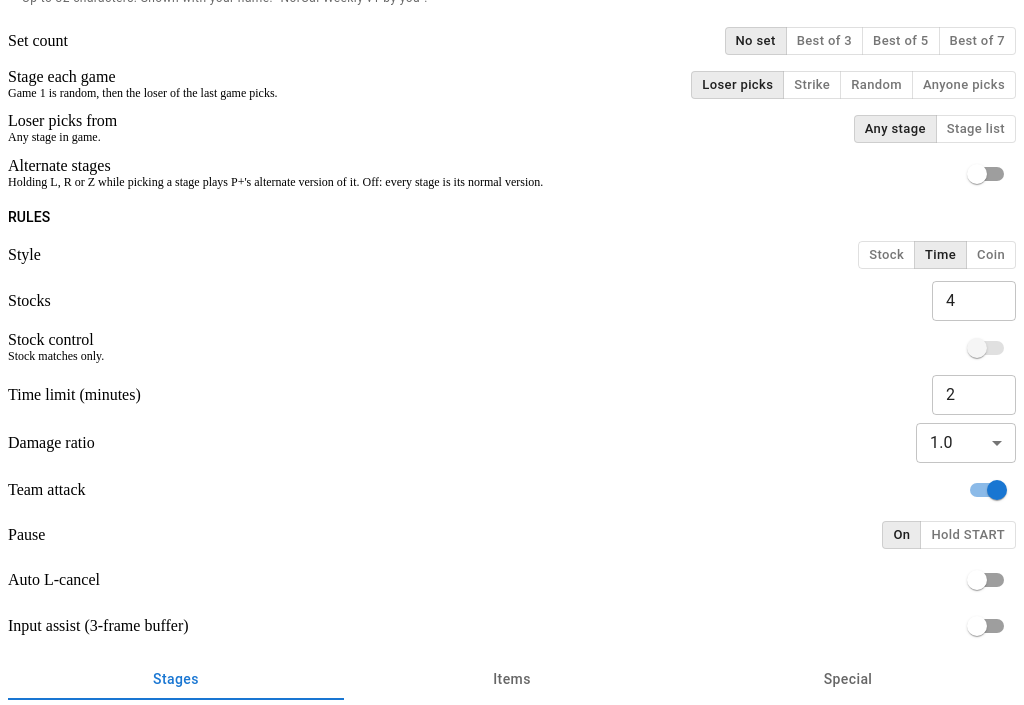
Test: the ruleset editor's tabs › makes stock control frame control with regen, in any style, and off with stamina
This screenshot has width=1024, height=705.
Expected: the 2nd checkbox is disabled, [967,338,987,358]
Click the tab with test id "ruleset-tab-special" at (848, 680), box [680,659,1016,700]
(page scrolled)
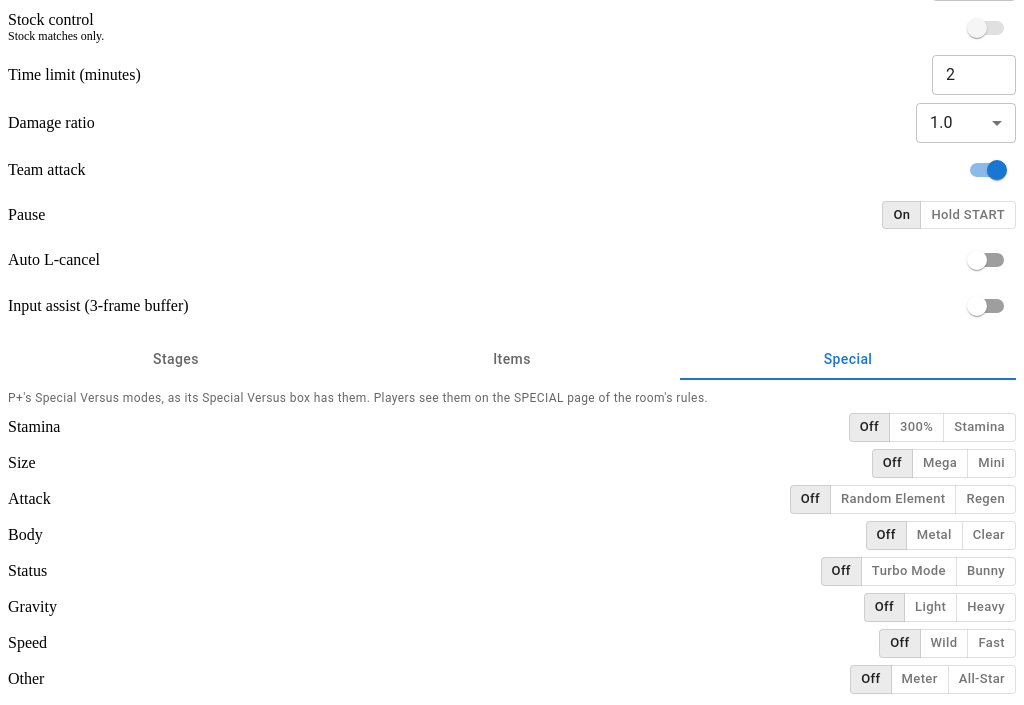
Click the button "Regen" at (986, 499), box [956,485,1016,514]
(page scrolled)
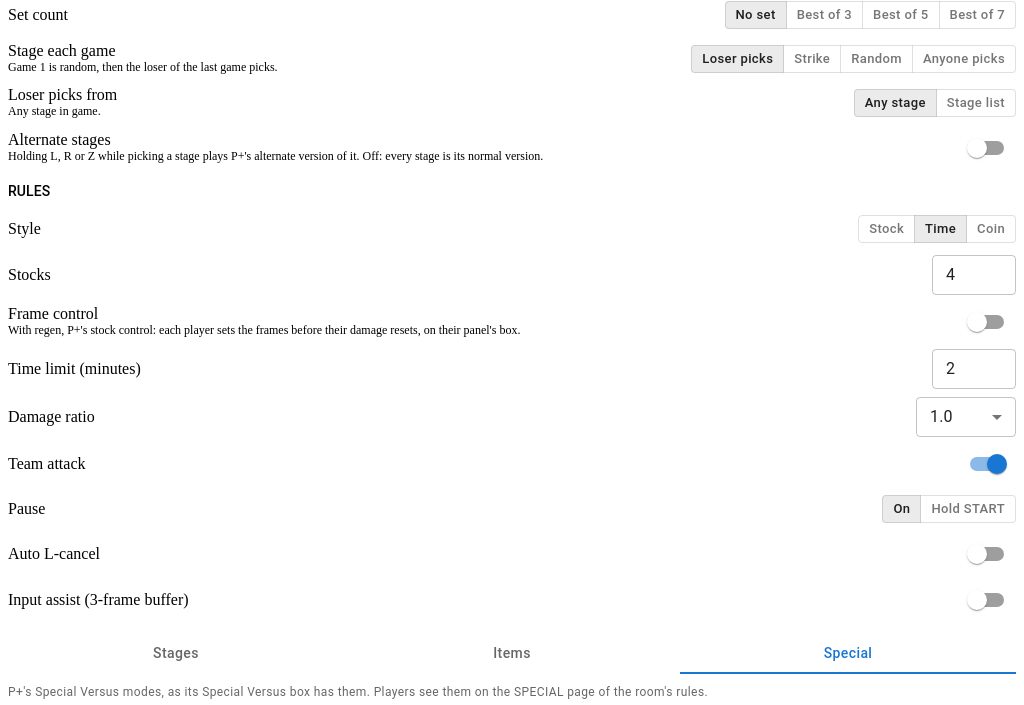
Expected: the text "Frame control" is shown, [8,305,98,322]
Expected: the 2nd checkbox is enabled, [967,312,987,332]
